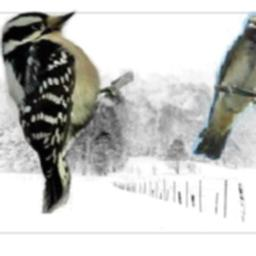Swallow: (189, 12, 256, 161)
Woodpecker: (0, 6, 134, 214)
